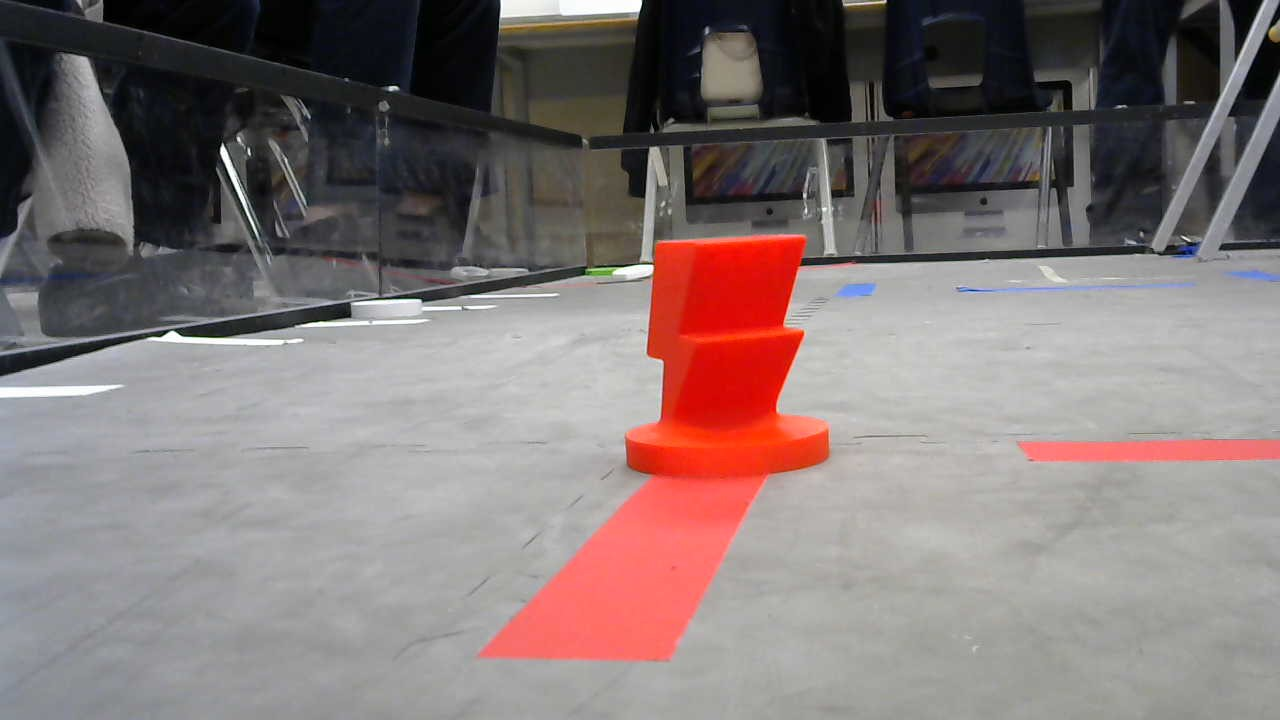redobject: (623, 230, 832, 477)
